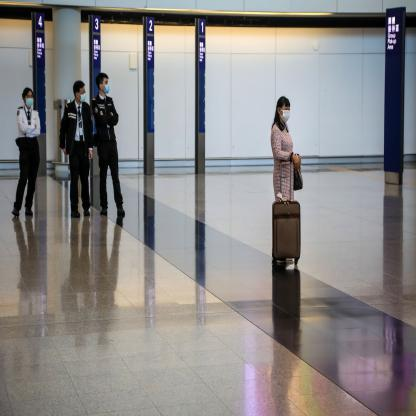Wearing_Mask: (280, 103, 290, 124), (77, 88, 86, 104), (102, 77, 110, 94), (25, 91, 33, 107)
